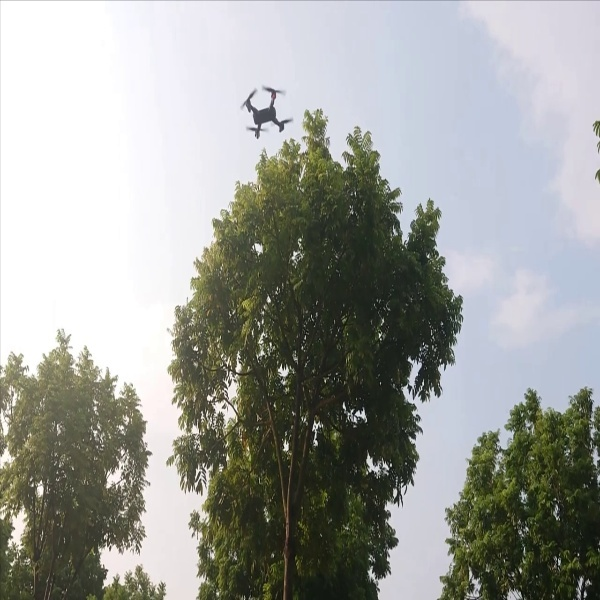drone: (238, 78, 297, 142)
